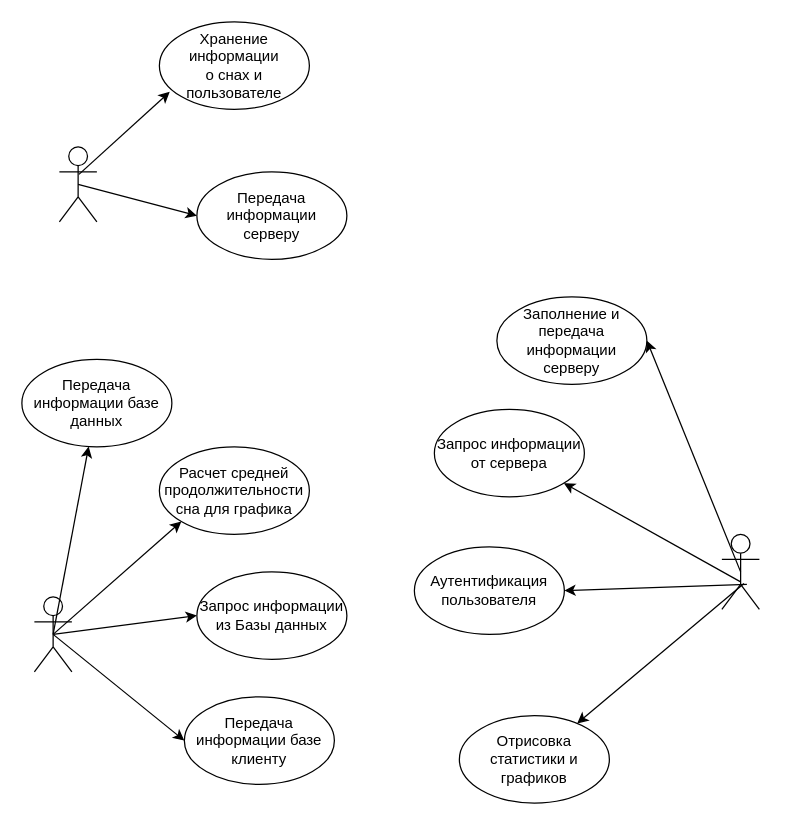
The diagram is 788 pixels wide and 825 high, and some of its shapes have lost their labels. The shapes that lost their labels are listed below. From the top down, each one's box as (x1, y1, x2, y2) in pixels, then its label:
(58, 146, 97, 222): База данных
(721, 533, 759, 609): Клиент
(33, 596, 72, 672): Сервер
